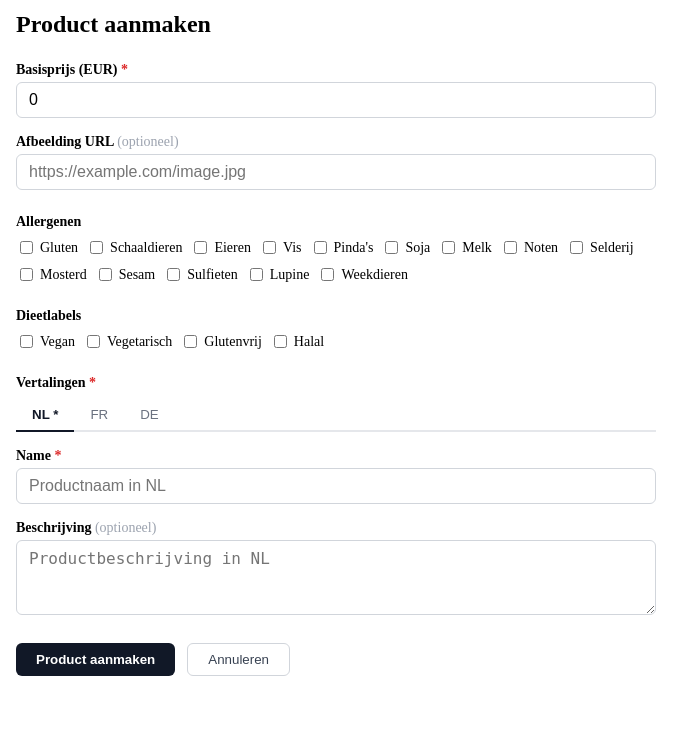
Test case: ProductCreate › shows validation error when NL name is empty and Save is clicked
This screenshot has width=673, height=731.
Note: Find and click the submit button without filling in the NL name
Click the button "Product aanmaken" at (96, 660), box x1=16 y1=643 x2=175 y2=676
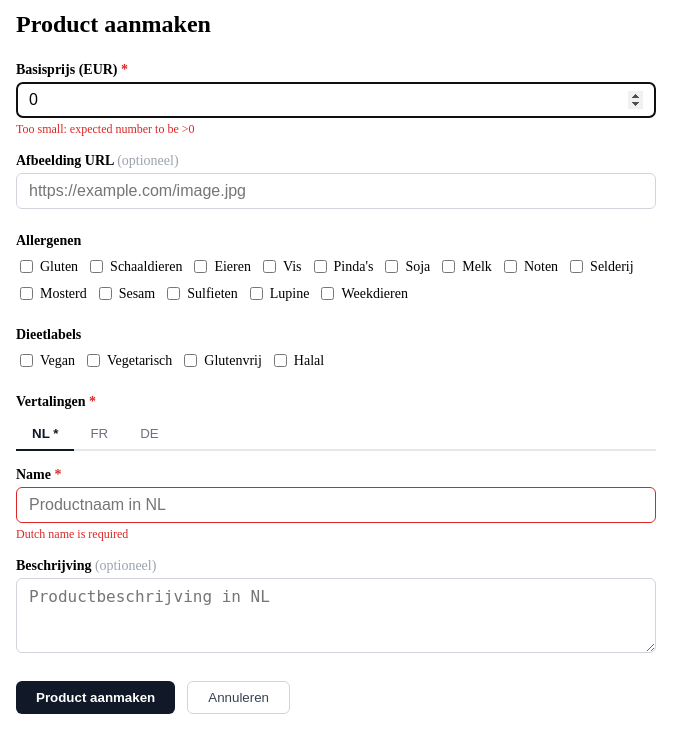
Result: the text "Dutch name is required" is shown at x1=16 y1=527 x2=128 y2=541
